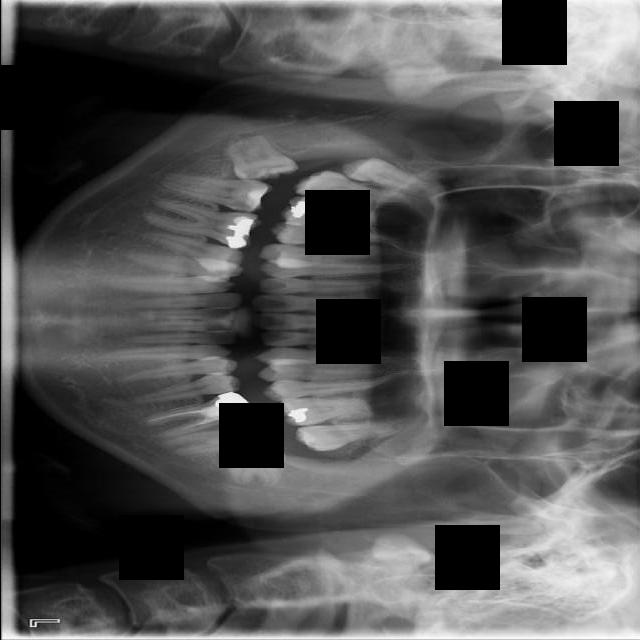3M ESPE Implant: (339, 149, 447, 203)
52: (211, 383, 263, 436), (219, 211, 254, 252), (239, 179, 269, 211), (249, 425, 275, 451), (287, 198, 315, 220), (286, 407, 309, 424)
73: (136, 394, 239, 443), (66, 546, 69, 554)
BioHorizons Implant: (294, 416, 414, 454)
Biomet 3i Implant: (218, 443, 285, 489)
Blue Sky Bio Implant: (165, 422, 277, 457)
Caries: (291, 165, 414, 211)
Implant: (156, 169, 271, 215)
Keystone Dental Implant: (223, 135, 298, 183)
